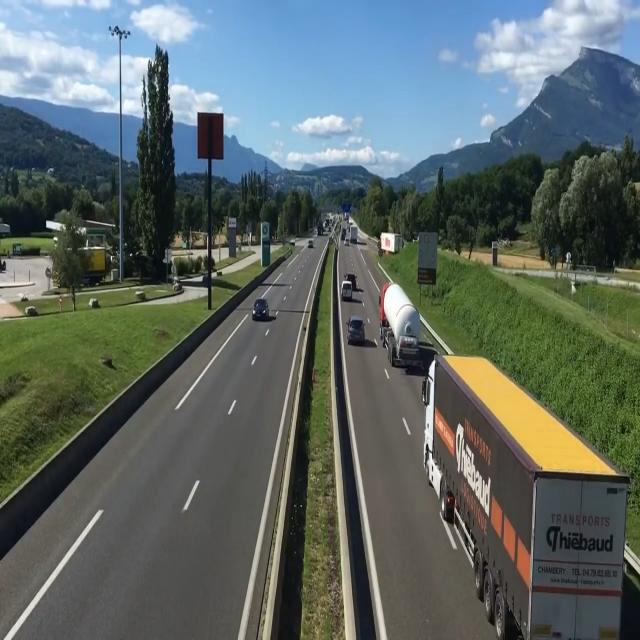car: (251, 292, 276, 325), (349, 314, 368, 346), (341, 281, 354, 304)
truck: (424, 362, 538, 548), (377, 275, 423, 377), (380, 232, 400, 256)
